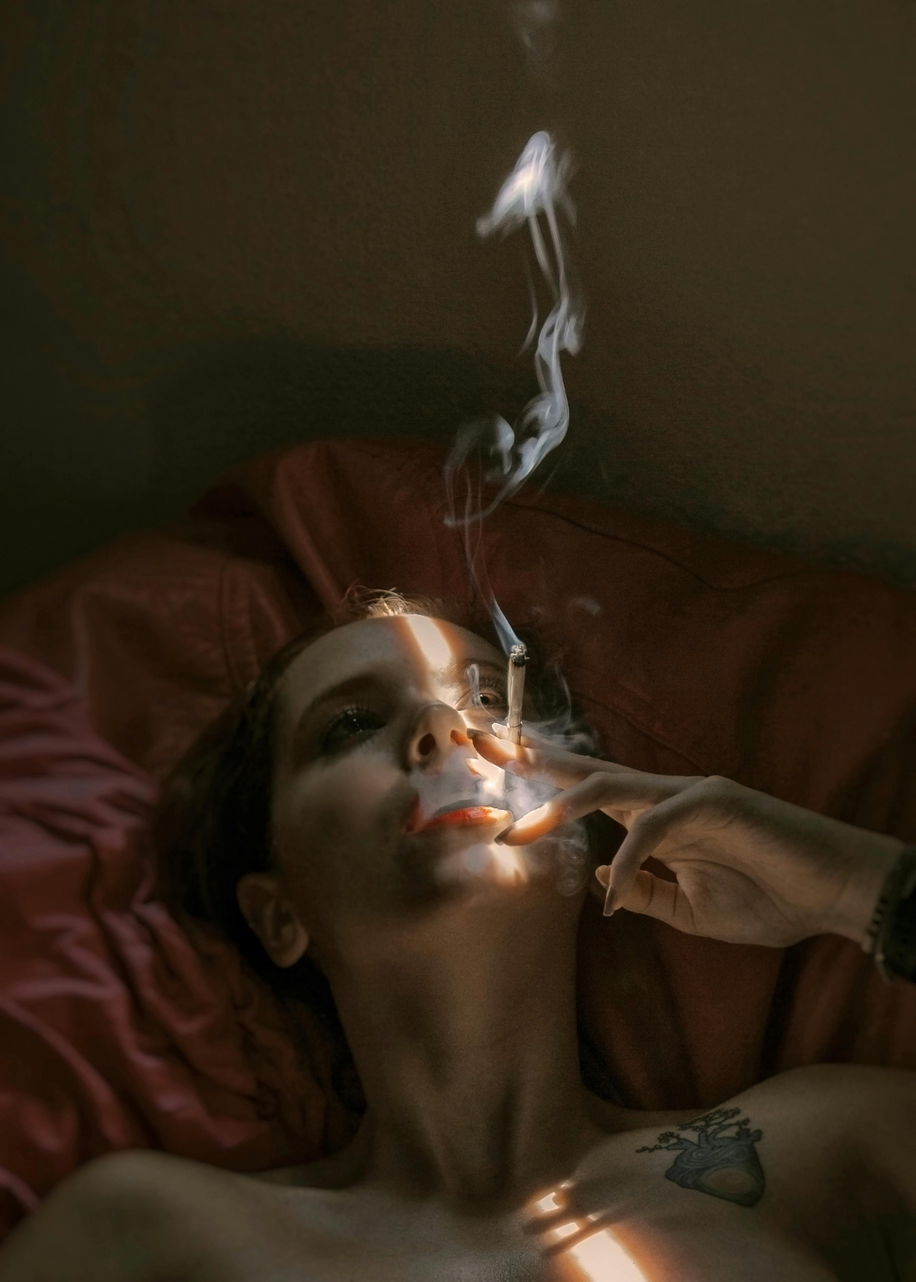smoker: (303, 289, 854, 1031)
